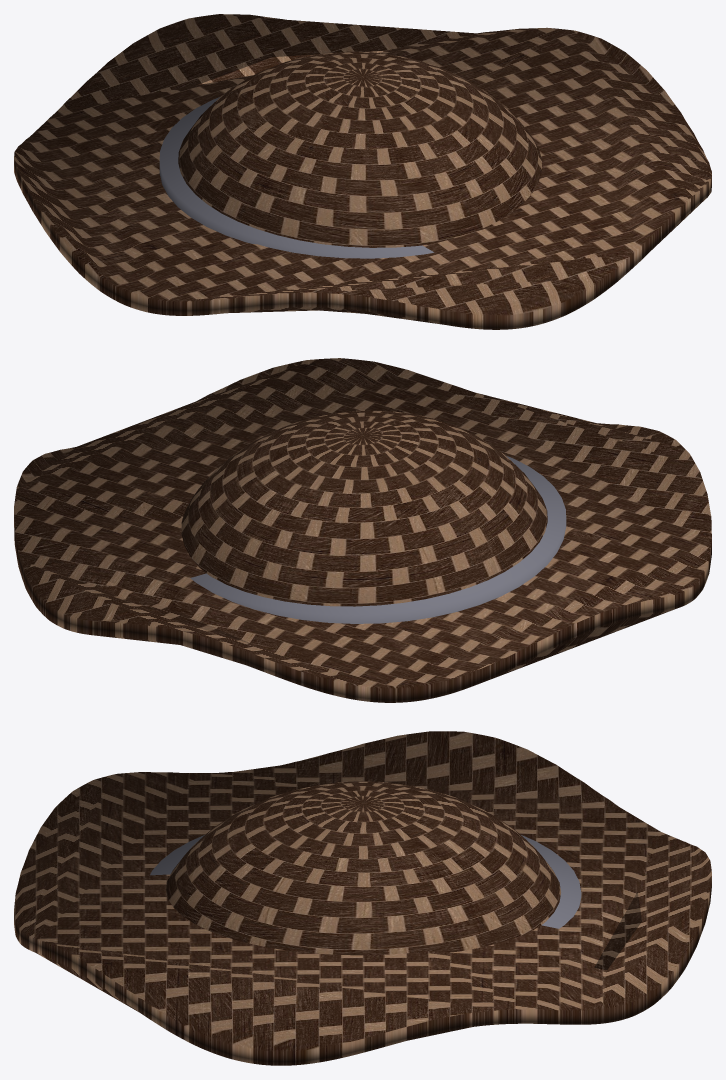
File: strawhat_dark.glb
3 views of the same model, one above another, from view 1: azimuth 30°, elevation 25°; view 2: azimuth 150°, elevation 25°; view 3: azimuth 270°, elevation 25° (orthographic).
Parts seen in each view (by area): view 1: Sphere; view 2: Sphere; view 3: Sphere.
Boxes of the visible parts, x1,y1,x2,y2 form: Sphere: (14, 14, 711, 329); Sphere: (14, 358, 711, 702); Sphere: (14, 731, 711, 1065).
Bounding box in the file's own units: 0.54 × 0.12 × 0.54.
Materials: 3 (2 with a texture image).
